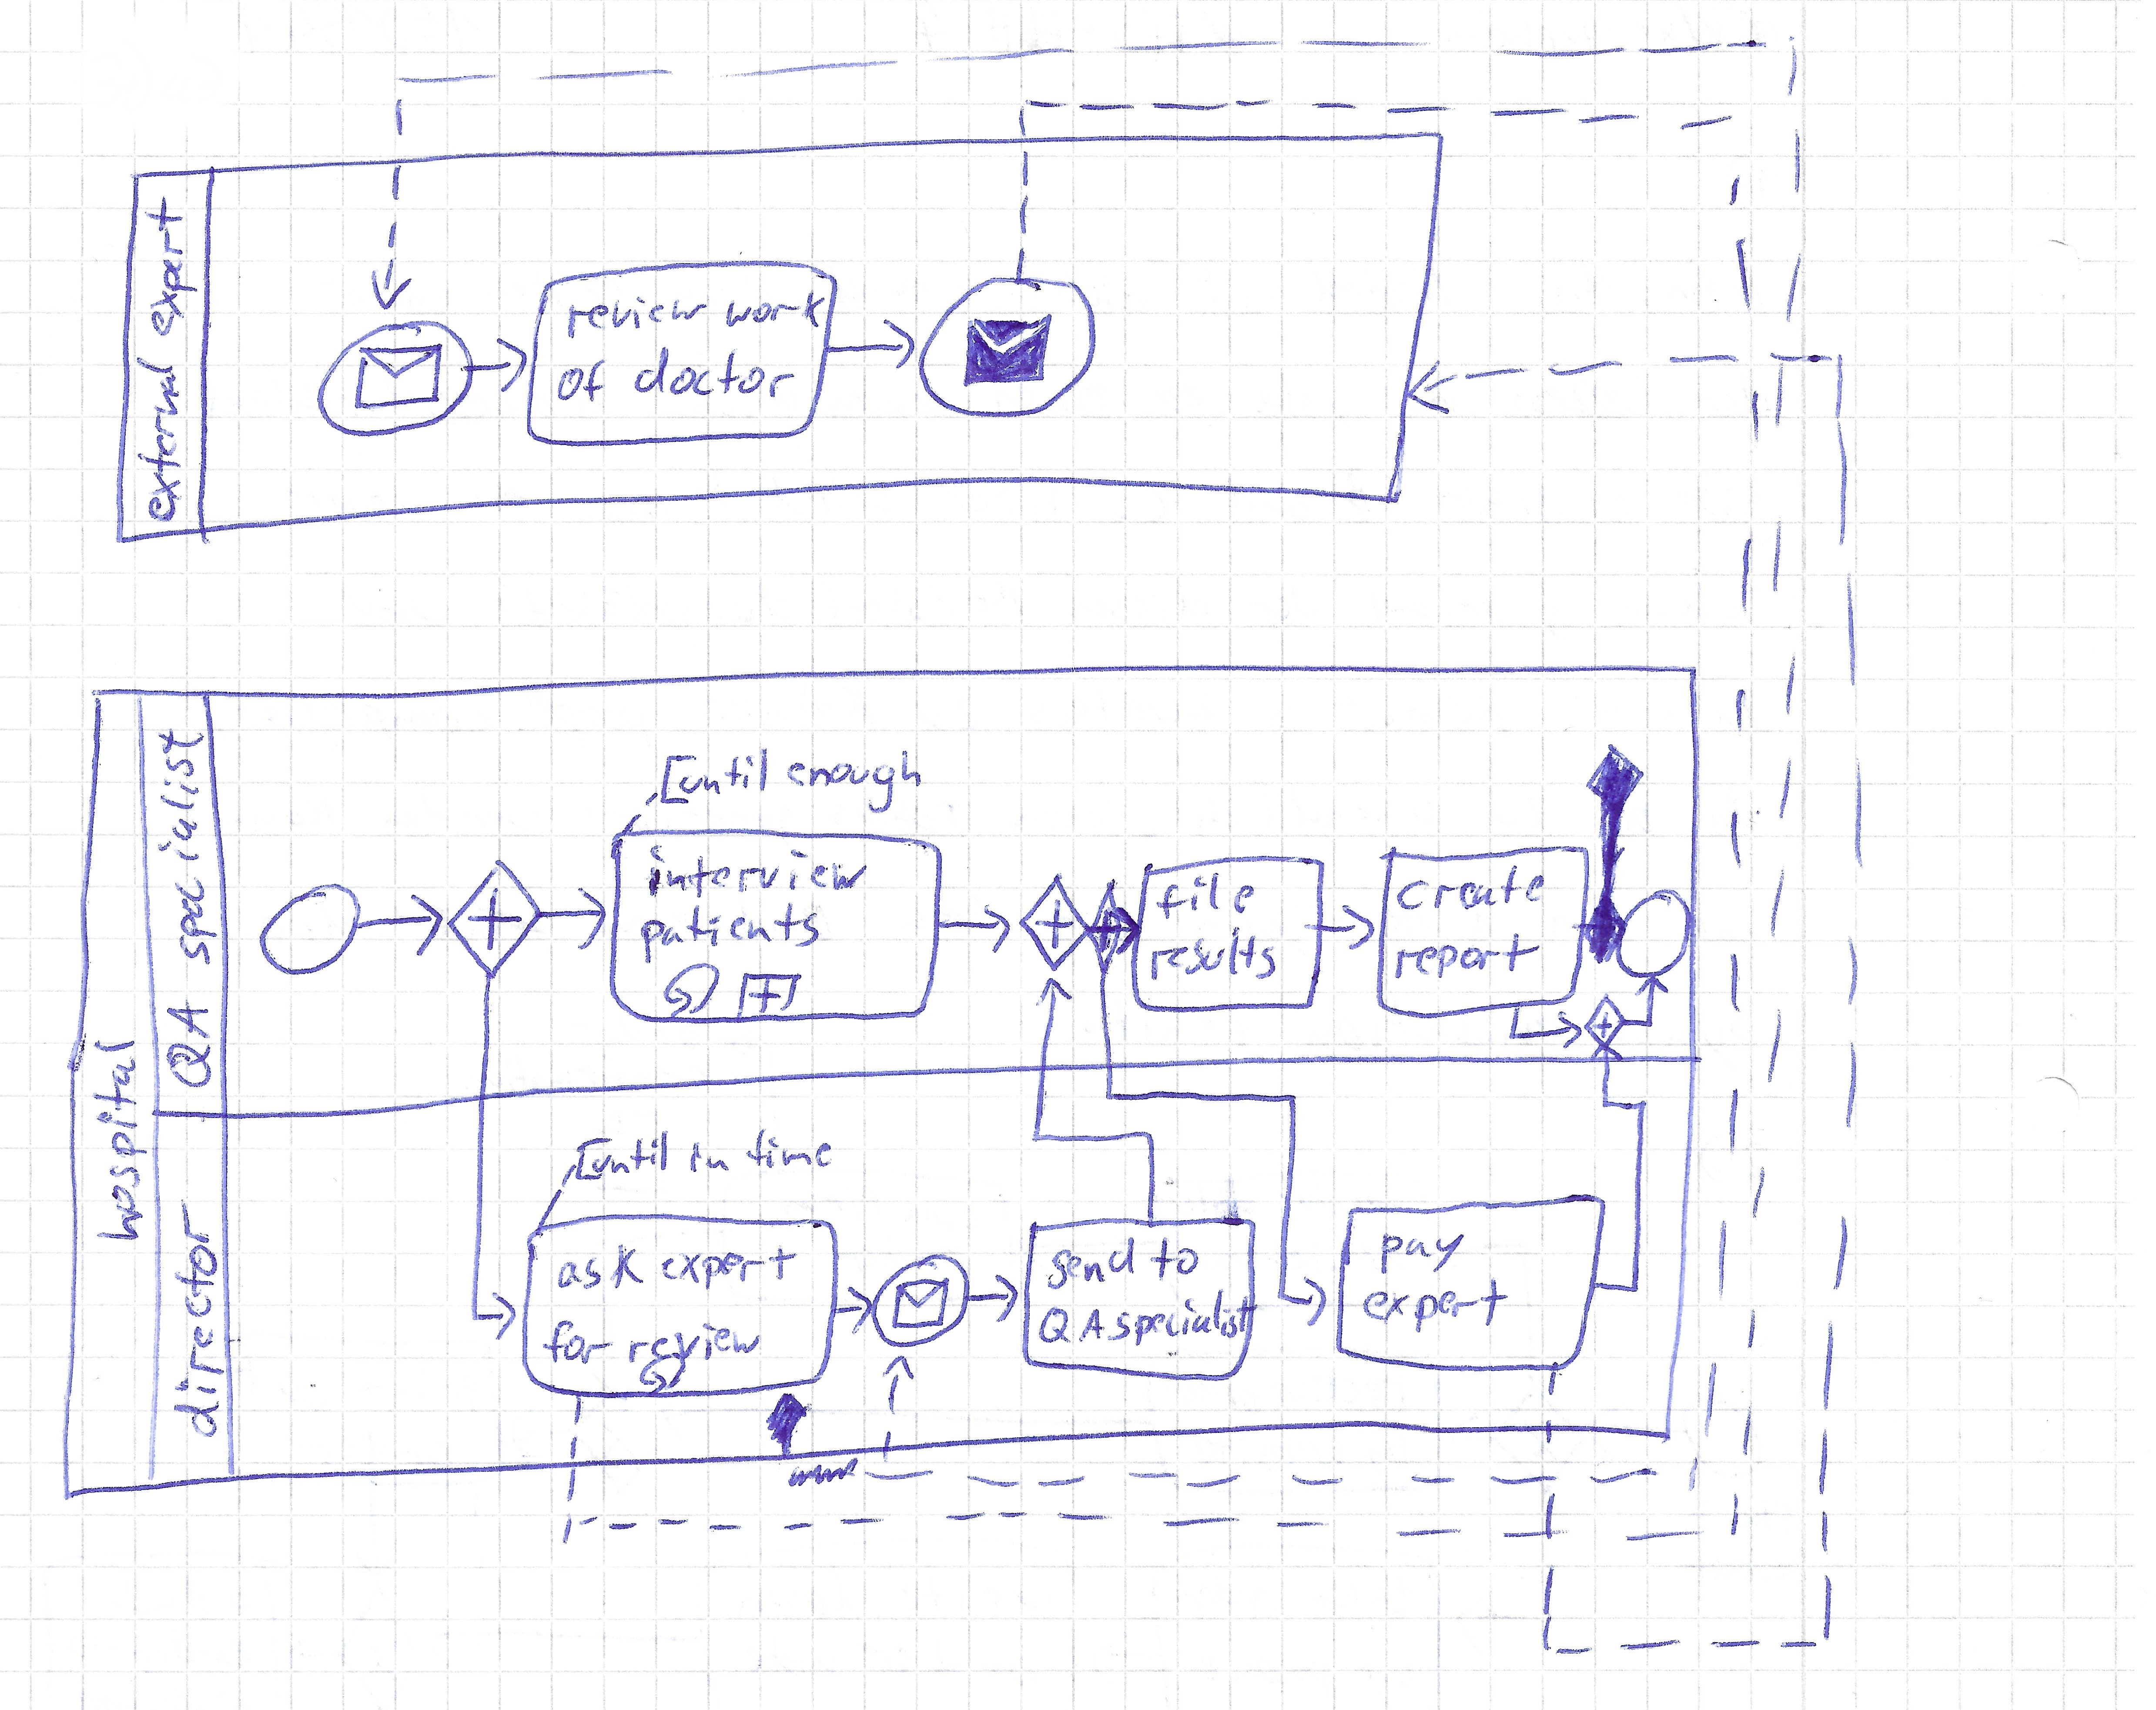QA: (160, 993, 219, 1093), (1034, 1302, 1110, 1350)
[until: (655, 743, 773, 808)
ask: (552, 1239, 649, 1296)
create: (1391, 860, 1550, 916)
director: (161, 1192, 230, 1444)
doctor: (628, 341, 801, 405)
enough: (781, 744, 927, 819)
expert: (1358, 1271, 1513, 1339), (140, 191, 202, 341), (656, 1241, 802, 1297)
external: (130, 349, 188, 529)
file: (1152, 866, 1260, 925)
for: (538, 1316, 619, 1369)
hospital: (85, 1035, 154, 1246)
in: (684, 1136, 733, 1178)
interview: (641, 840, 874, 903)
of: (552, 352, 613, 410)
patients: (636, 896, 826, 972)
pay: (1376, 1227, 1470, 1281)
report: (1389, 929, 1546, 984)
results: (1144, 921, 1282, 987)
review: (560, 291, 713, 347), (623, 1318, 767, 1370)
send: (1041, 1231, 1140, 1295)
specialist: (151, 723, 223, 970), (1103, 1283, 1264, 1352)
time: (742, 1124, 838, 1173)
to: (1145, 1231, 1203, 1286)
until: (588, 1126, 673, 1178)
work: (719, 283, 830, 335)
